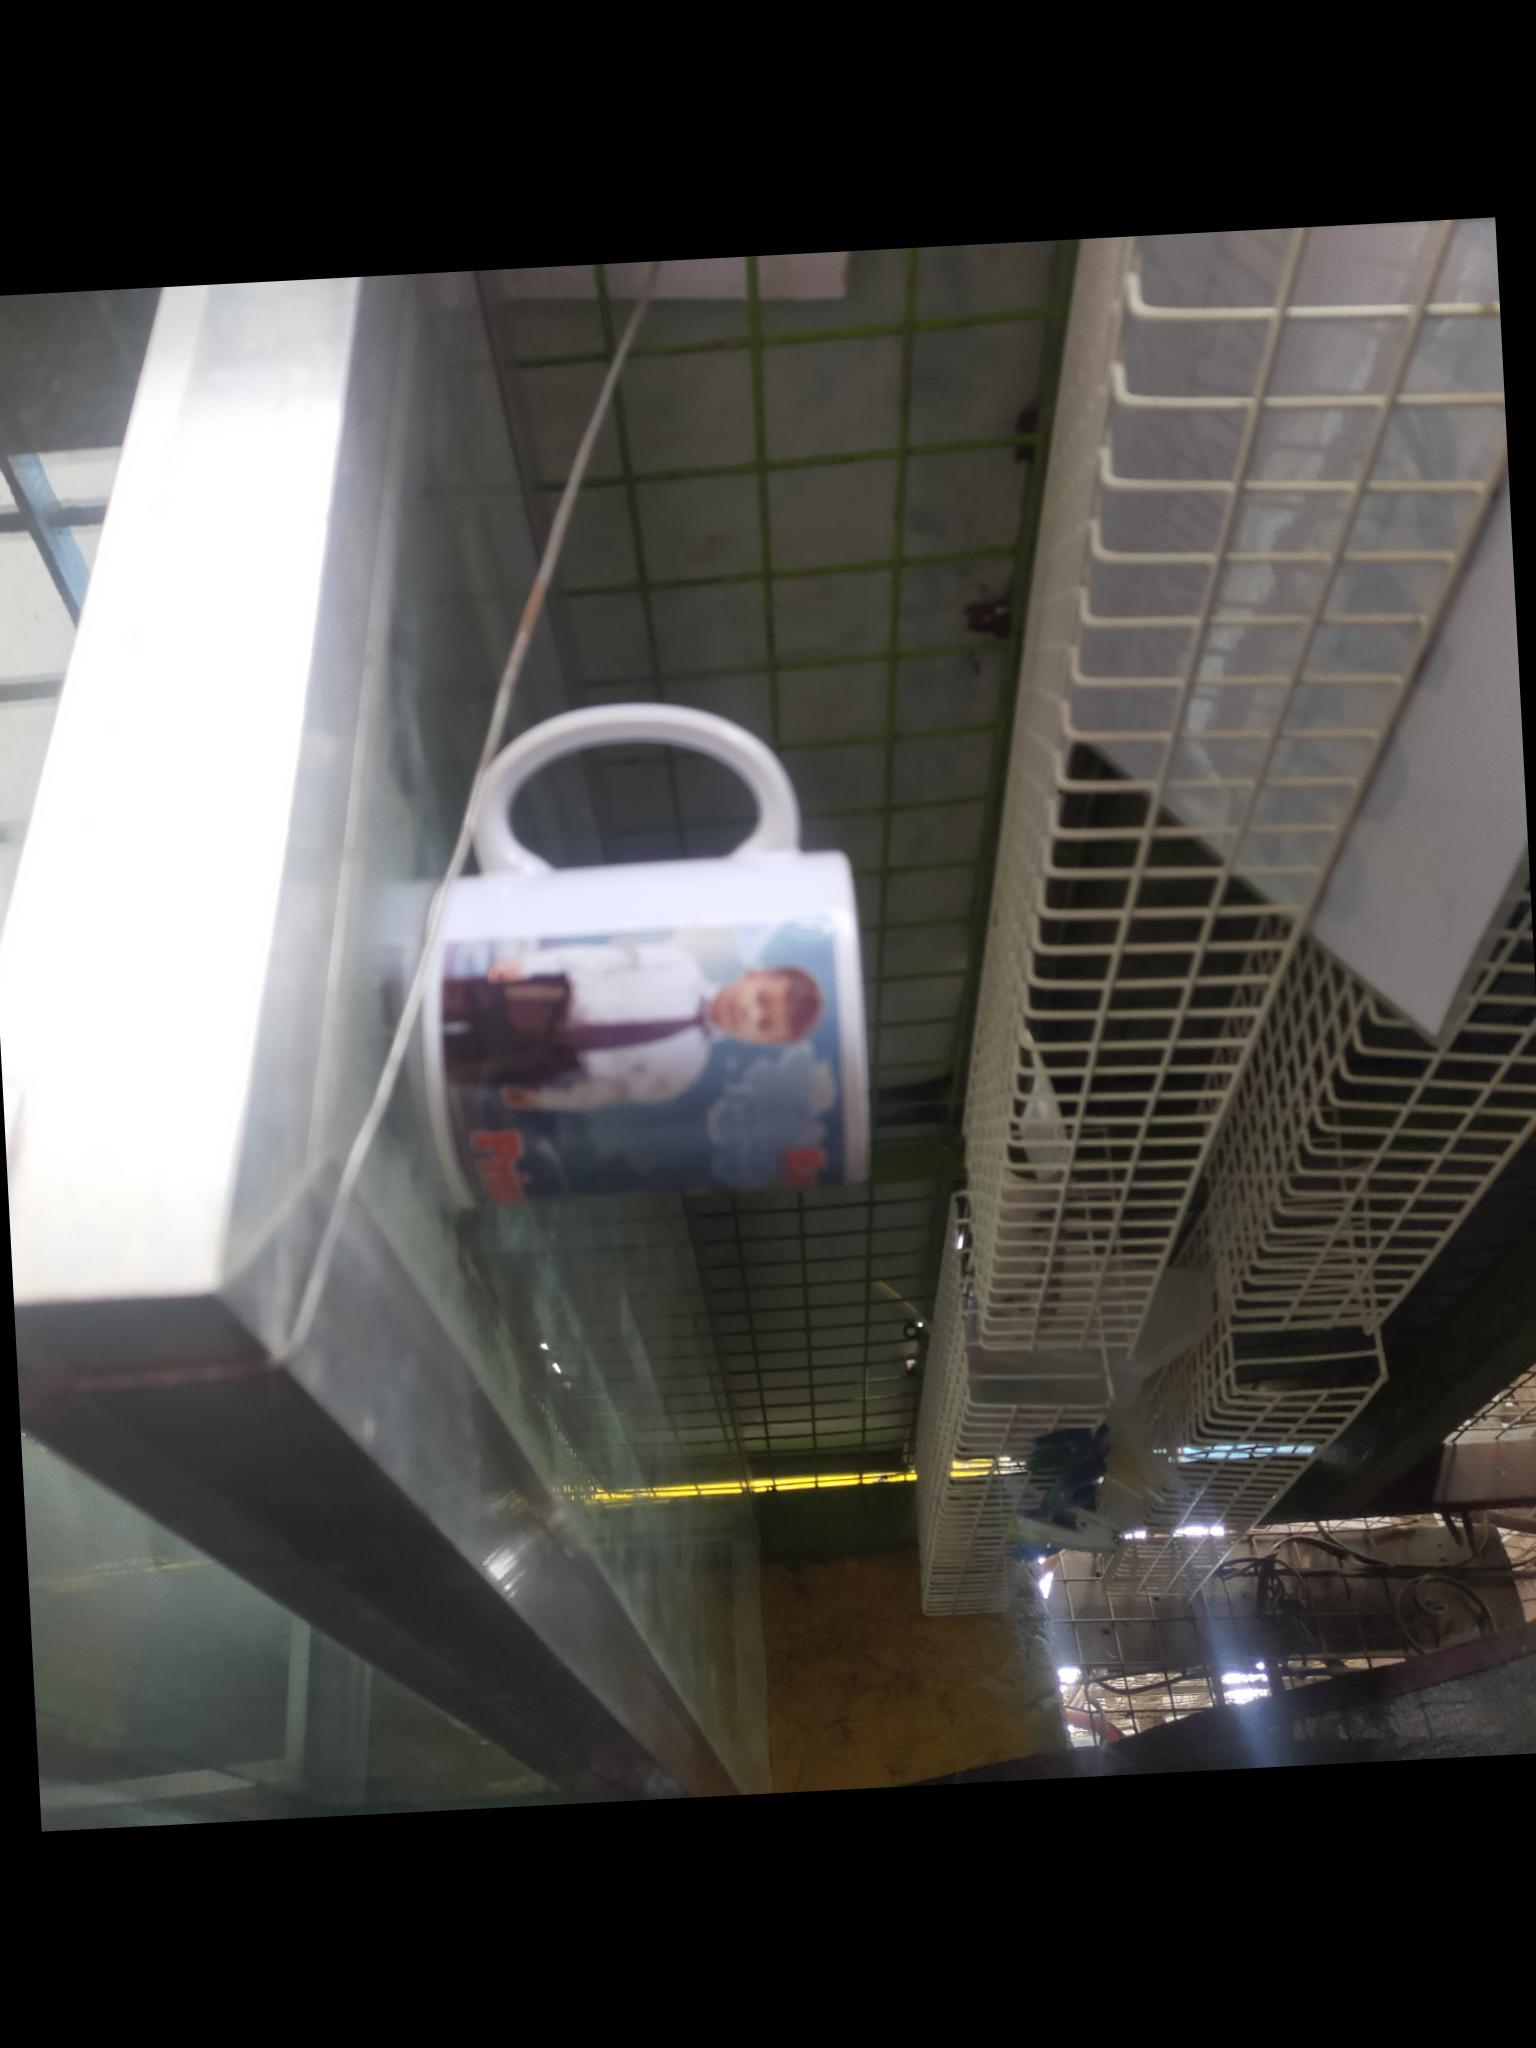Coffee Mug: (407, 701, 883, 1219)
